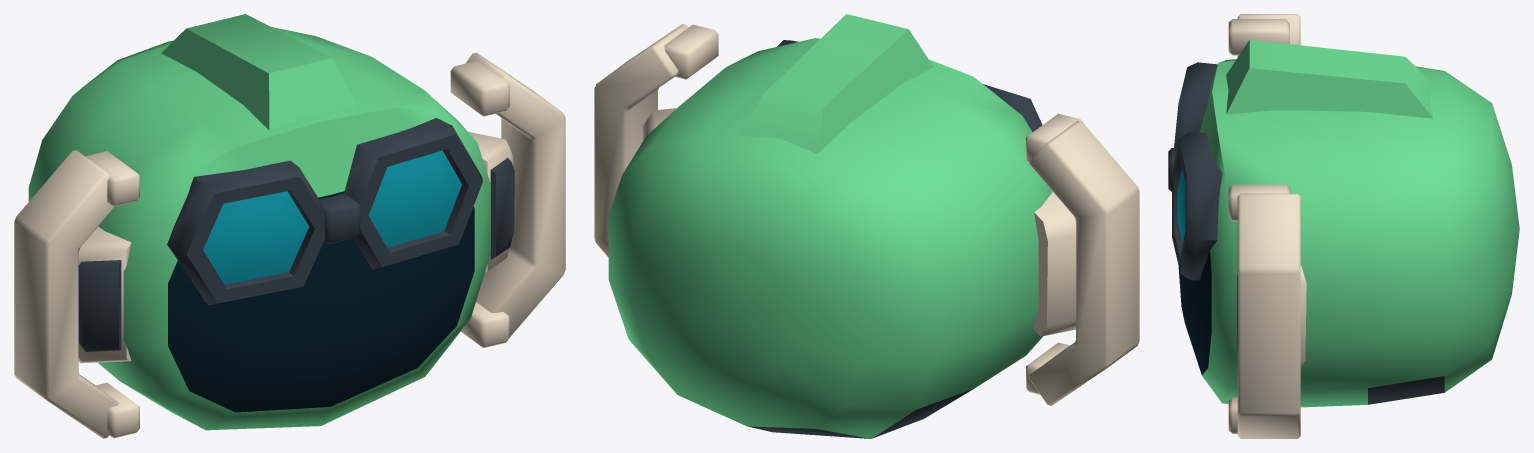
File: copilot_tester_v01.glb
The picture shows the model from 3 angles, left to right: view 1: azimuth 30°, elevation 25°; view 2: azimuth 150°, elevation 25°; view 3: azimuth 270°, elevation 25°; orthographic projection. The views are drawn at different scales.
Visible parts, largest first — view 1: tester_model; view 2: tester_model; view 3: tester_model.
Boxes of the visible parts, left/top/right/bottom form: tester_model: left=14, top=14, right=565, bottom=438; tester_model: left=594, top=14, right=1139, bottom=438; tester_model: left=1168, top=14, right=1519, bottom=438.
Size of the model in its own units: 2.8 by 1.79 by 1.78.
2 materials, 2 textured.
